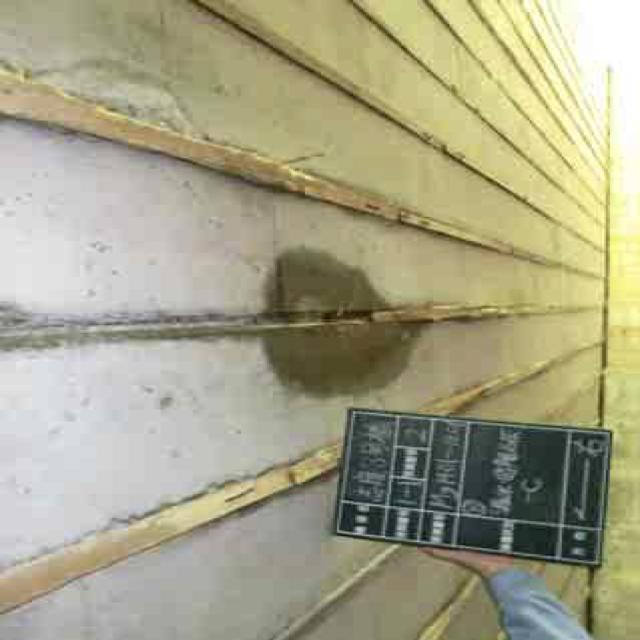leakage: (227, 238, 446, 422)
